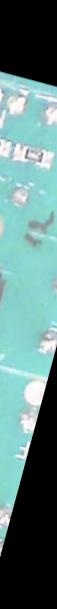chip-resistor: (9, 137, 57, 171)
